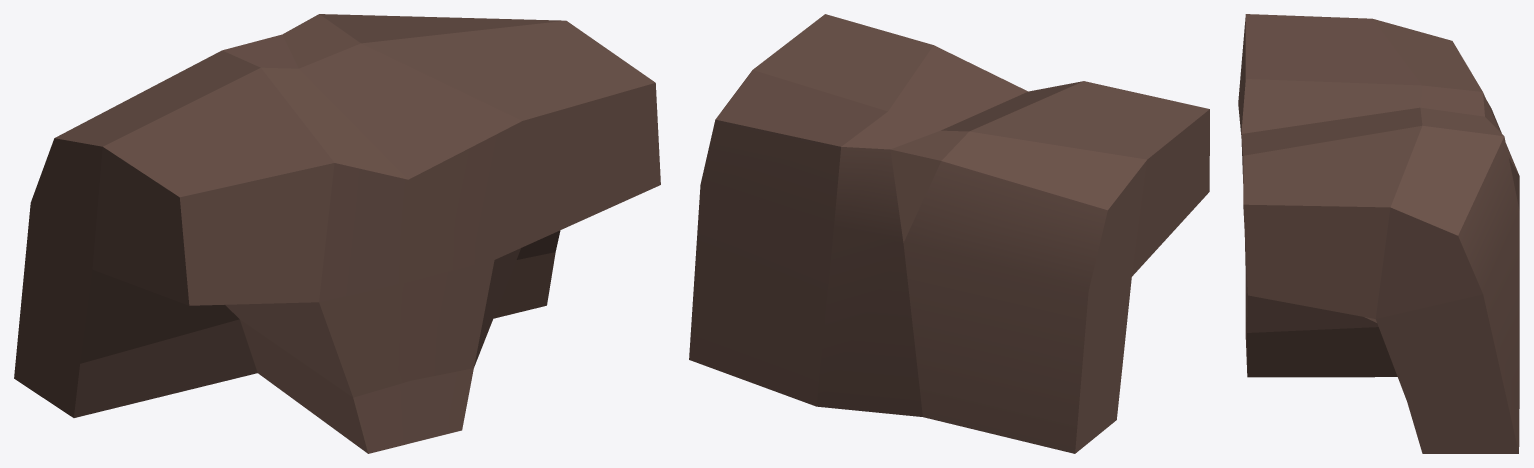
Rendered from Cave_Ceiling_Corner_DoubleSided.fbx.
3 views of the same model, side by side, from view 1: azimuth 30°, elevation 25°; view 2: azimuth 150°, elevation 25°; view 3: azimuth 270°, elevation 25° (orthographic). The views are drawn at different scales.
Visible parts, largest first — view 1: Cave_Ceiling_Corner_DoubleSided; view 2: Cave_Ceiling_Corner_DoubleSided; view 3: Cave_Ceiling_Corner_DoubleSided.
Part boxes in pixels (x1,y1,x2,y2): Cave_Ceiling_Corner_DoubleSided: (14,14,660,453); Cave_Ceiling_Corner_DoubleSided: (689,14,1209,453); Cave_Ceiling_Corner_DoubleSided: (1238,14,1519,453).
Bounding box in the file's own units: 4.99 × 3.06 × 3.23.
